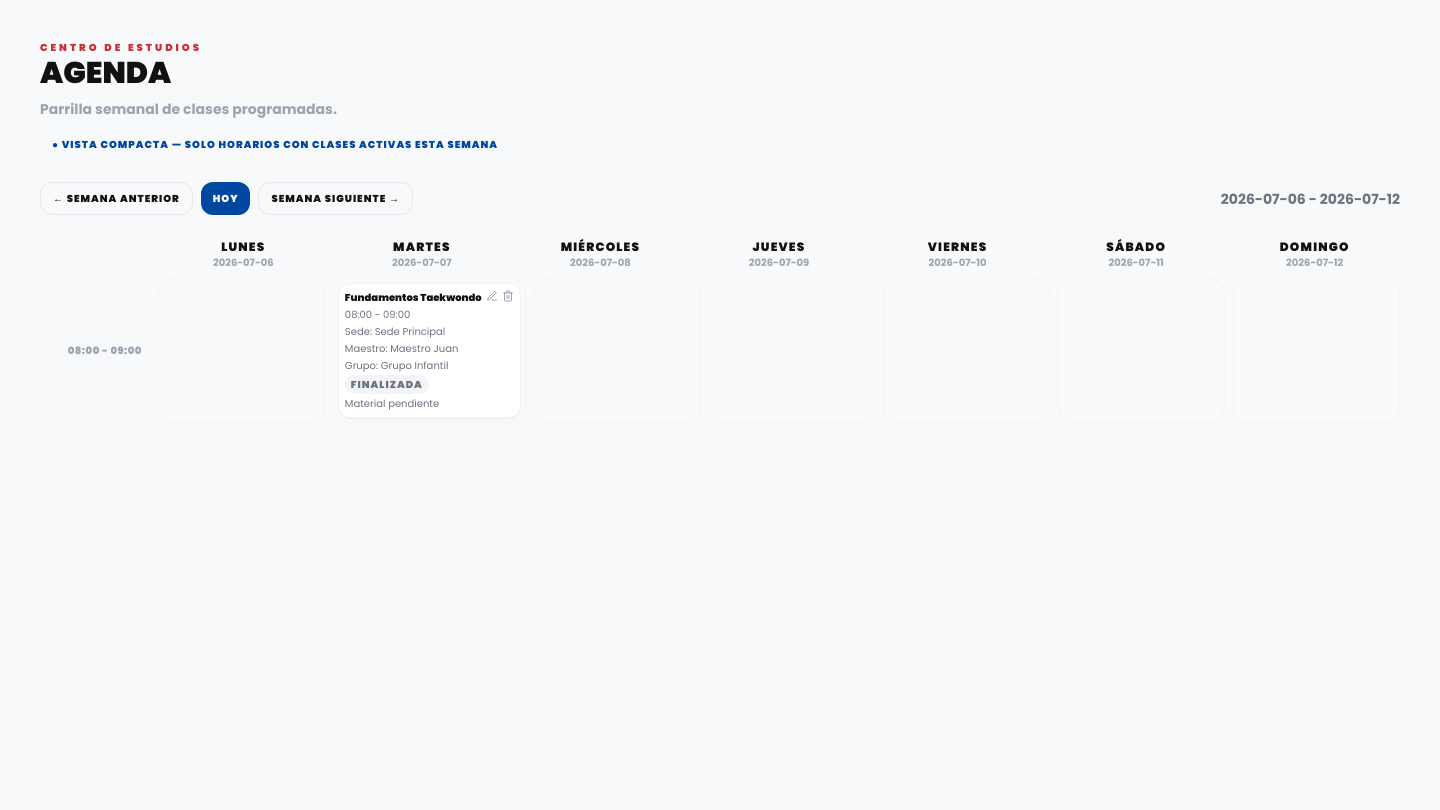
Test case: AgendaView › click en el lapiz abre el modal de edicion (una sola vista, sin tabs), sin salir de la vista semanal
Step 1. Click the button named "editar clase" → (492, 296), box [486,290,498,302]
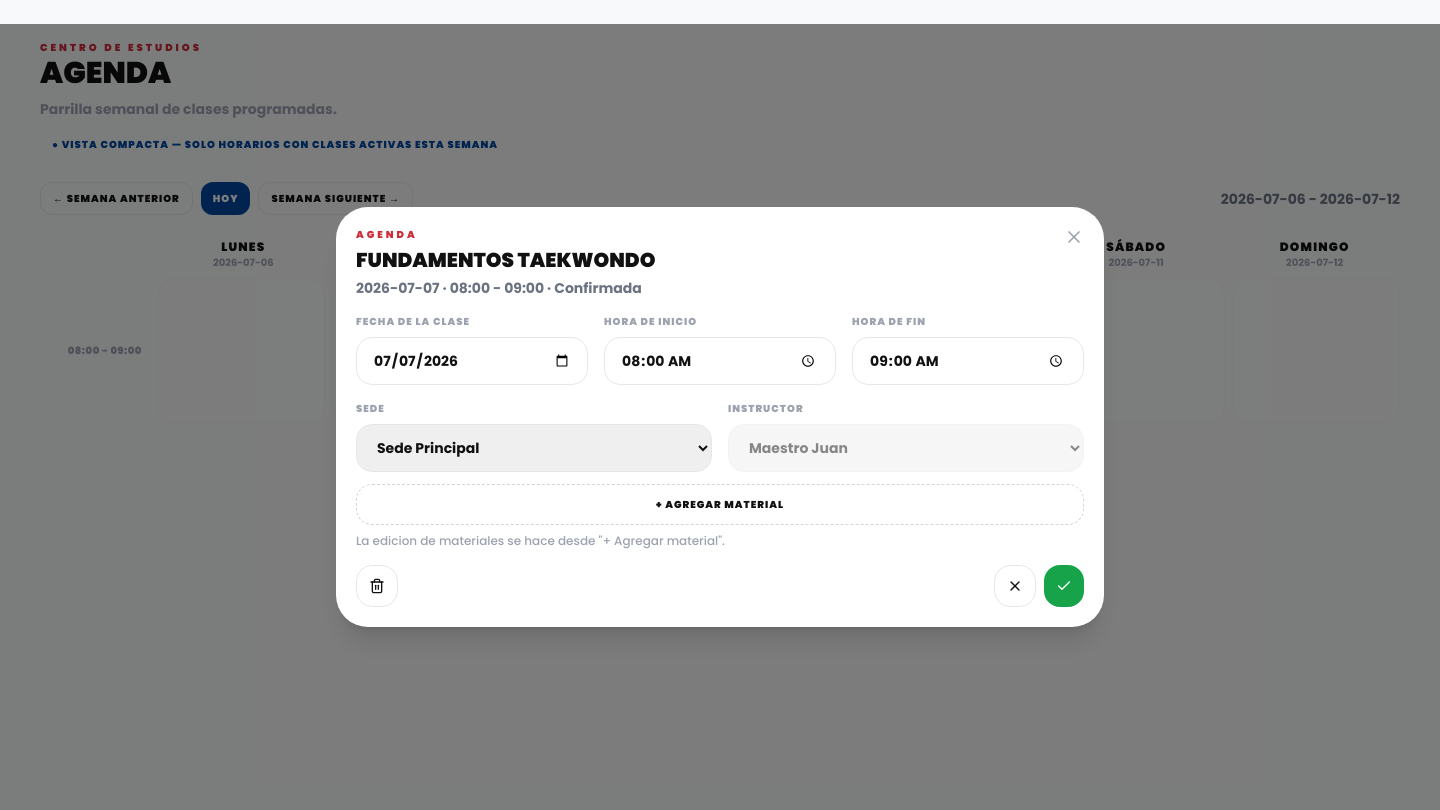
Expected: the text "Lunes" is shown, [221,239,265,255]
Result: the dialog is shown
Result: the button "+ Agregar material" is shown at [356,484,1084,525]
